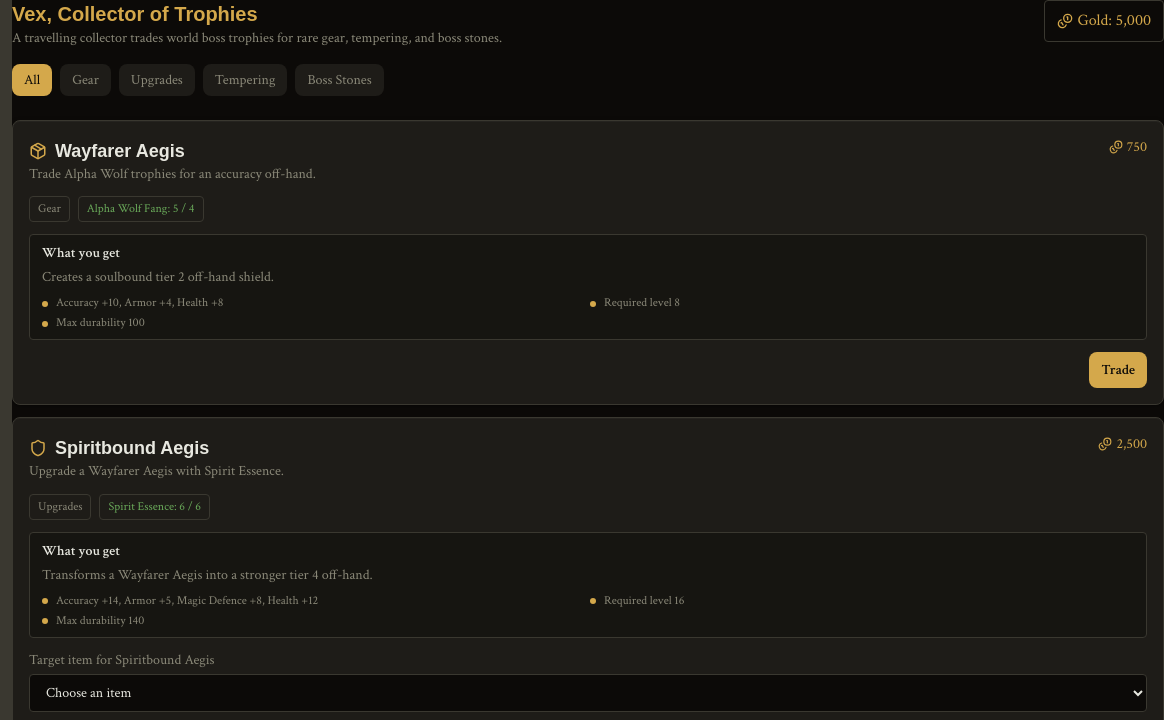
it: VexScreen › requires target selection for target-based exchanges
Expected: the heading "Spiritbound Aegis" is shown, [55, 434, 209, 462]
Select "Wayfarer Aegis (common) - 40/40 durability" in the dropdown labelled "Target item for Spiritbound Aegis" at (588, 692), box [29, 674, 1147, 712]
(page scrolled)
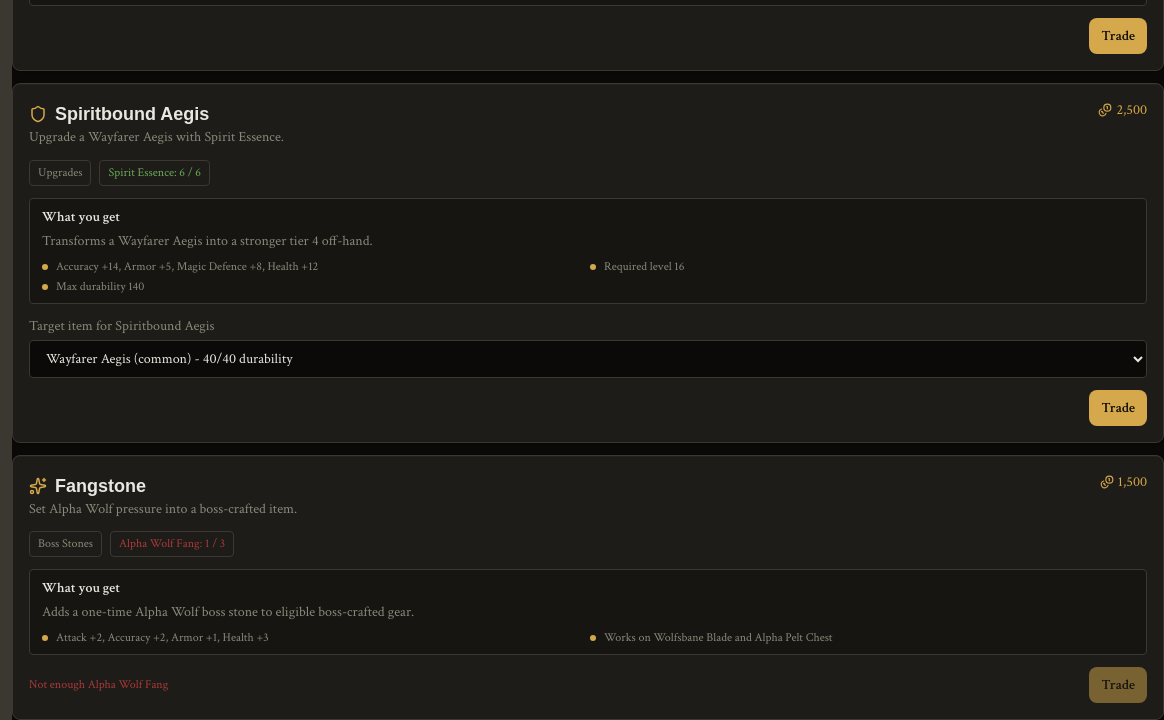
Expected: the button with aria-label "Trade Spiritbound Aegis" is enabled, [1090, 390, 1147, 426]
